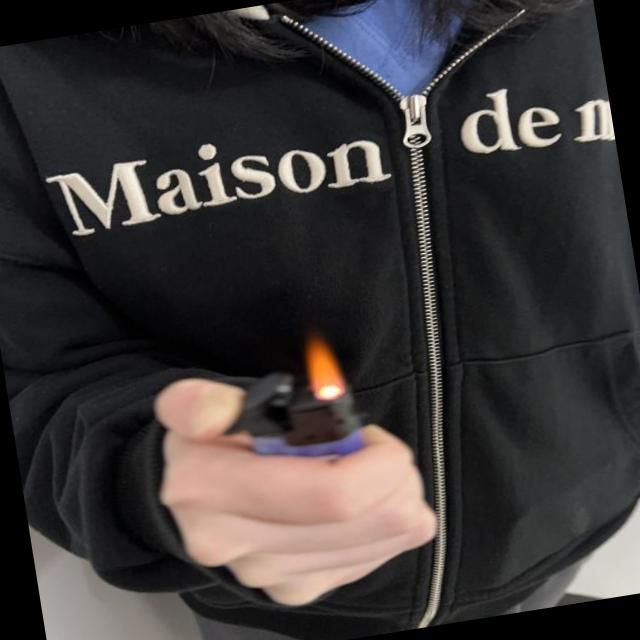Fire: (301, 328, 348, 404)
